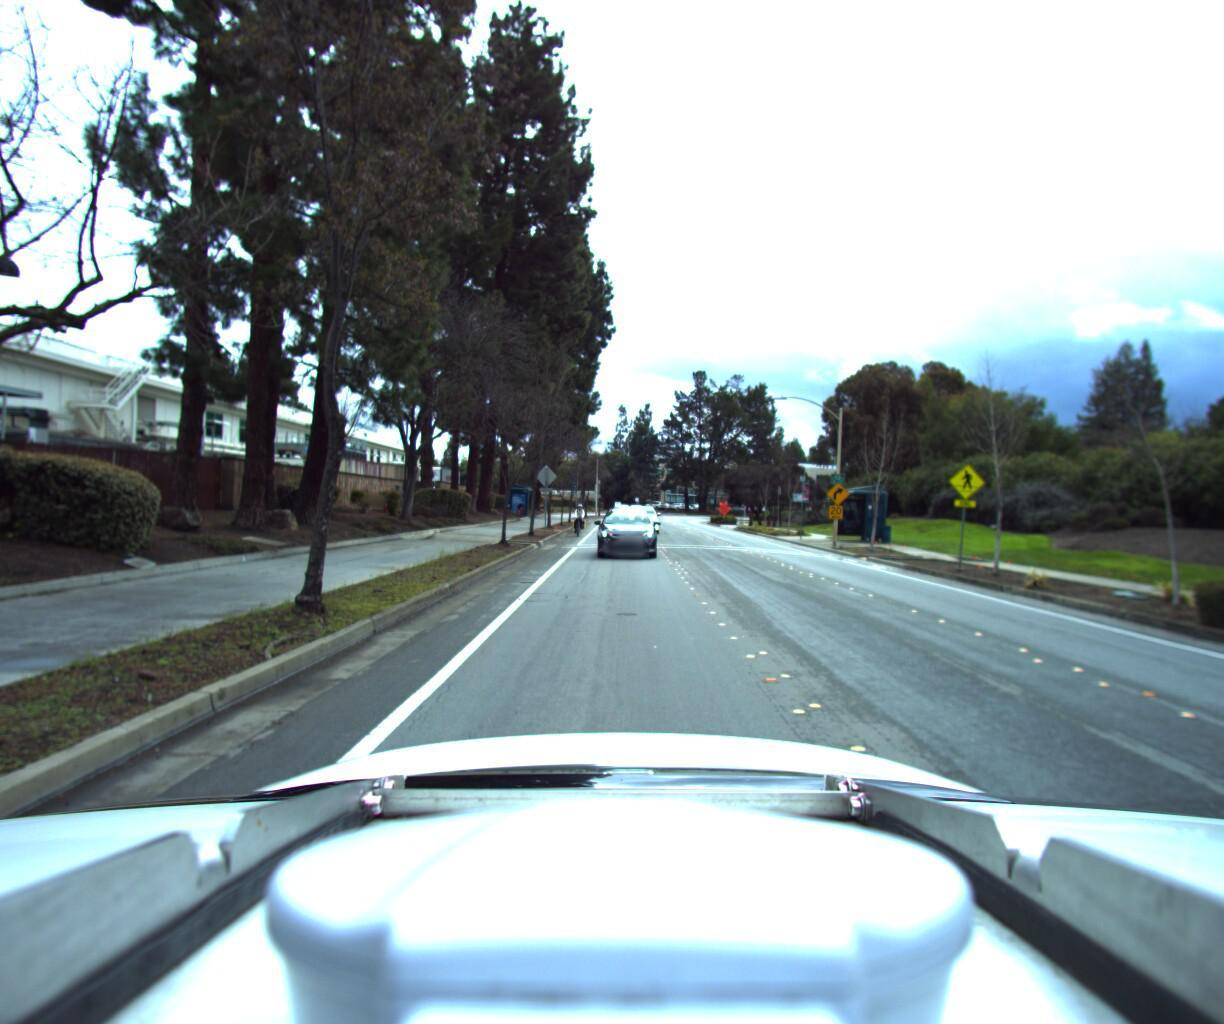bicycle: (568, 496, 587, 531)
car: (589, 499, 654, 554)
